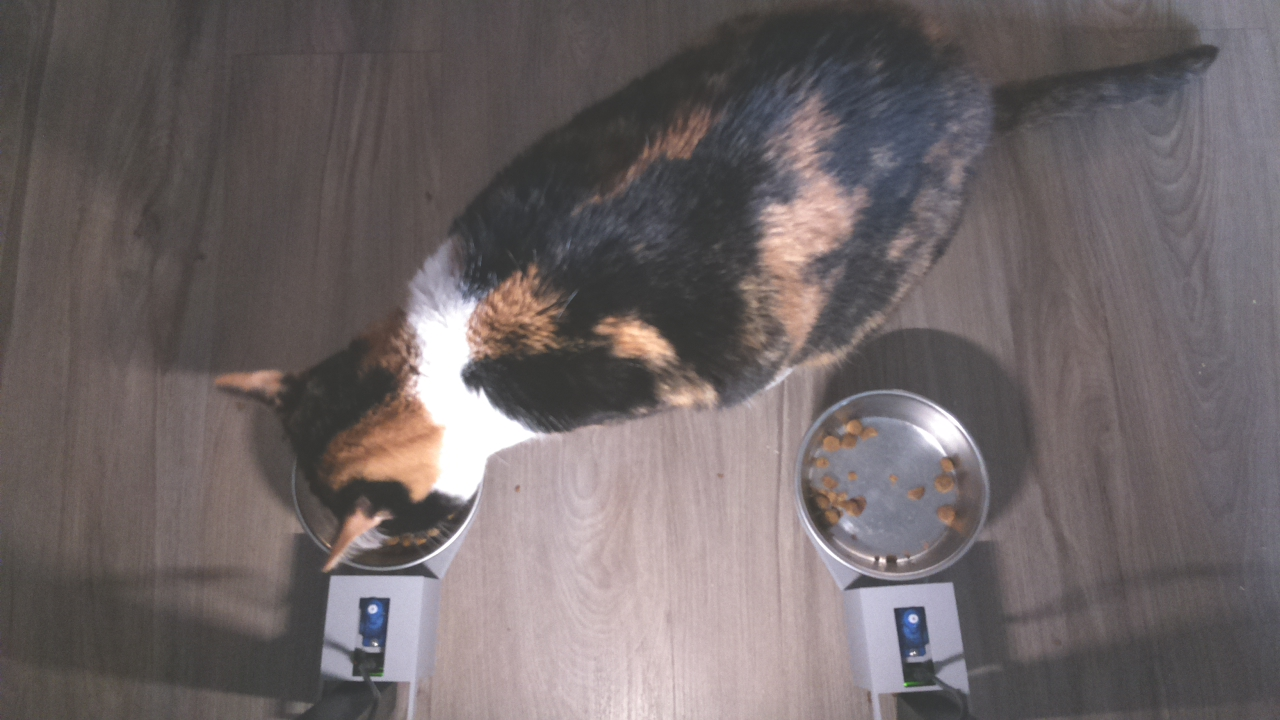bella_eating: (211, 243, 495, 585)
open_bowl: (794, 387, 992, 584)
